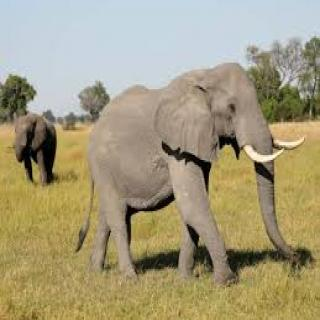Elephant: (78, 58, 314, 287)
